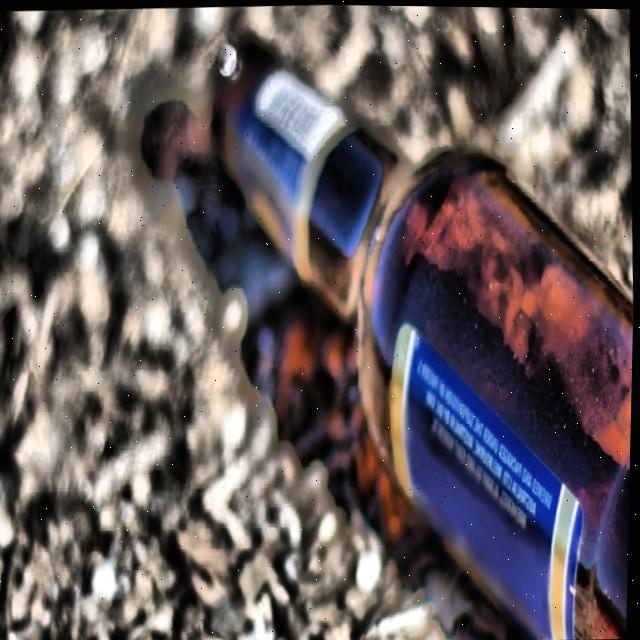glass: (206, 32, 635, 639)
